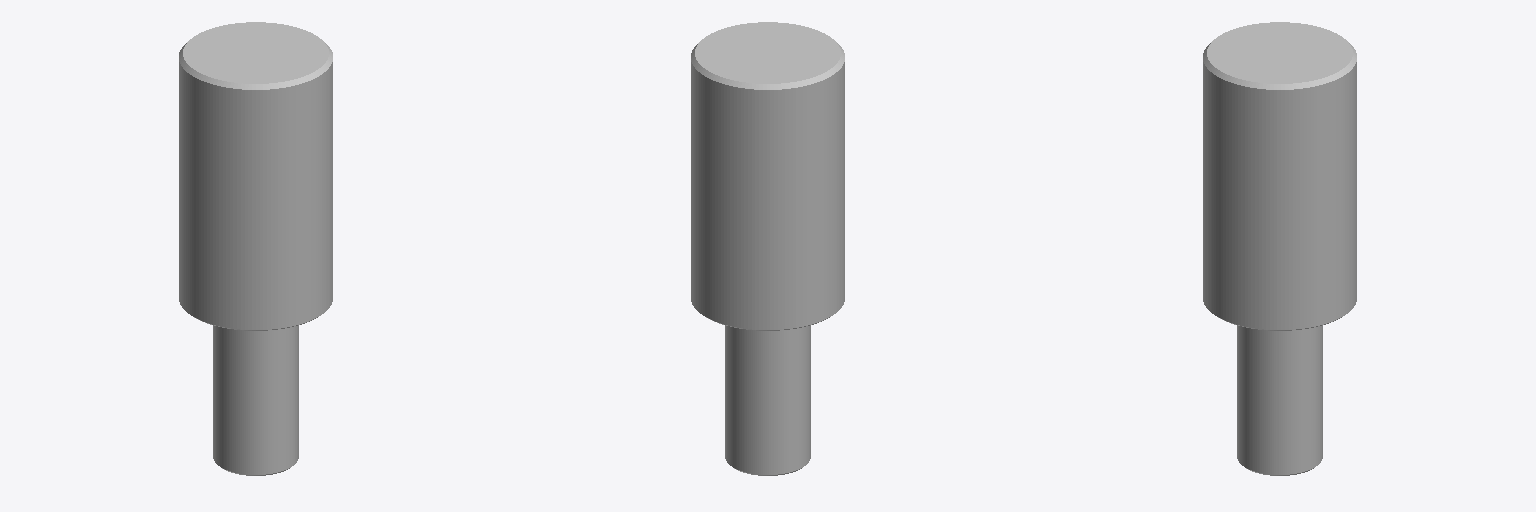
The model's file is post.obj.
3 views of the same model, side by side, from view 1: azimuth 30°, elevation 25°; view 2: azimuth 150°, elevation 25°; view 3: azimuth 270°, elevation 25° (orthographic).
Visible parts, largest first — view 1: Stake; view 2: Stake; view 3: Stake.
Part boxes in pixels (left/top/right/bottom): Stake: left=179, top=22, right=332, bottom=475; Stake: left=691, top=22, right=844, bottom=475; Stake: left=1203, top=22, right=1356, bottom=475.
Bounding box in the file's own units: 0.7599 × 2.2 × 0.7599.